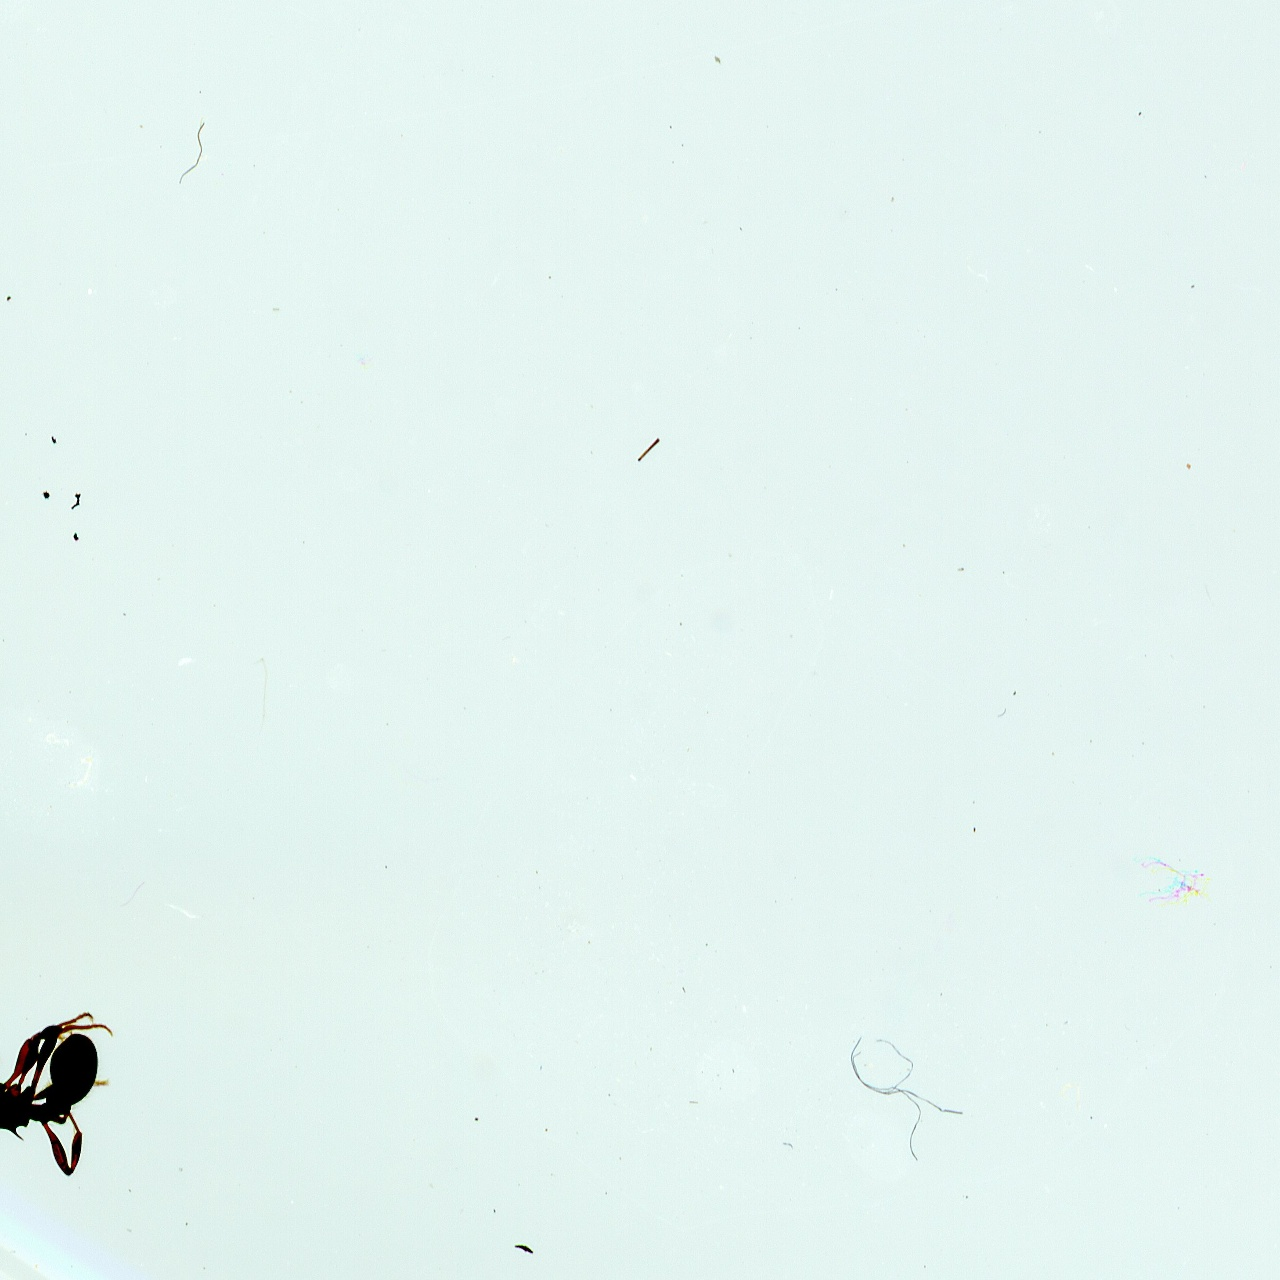arthropod: (0, 952, 129, 1183)
